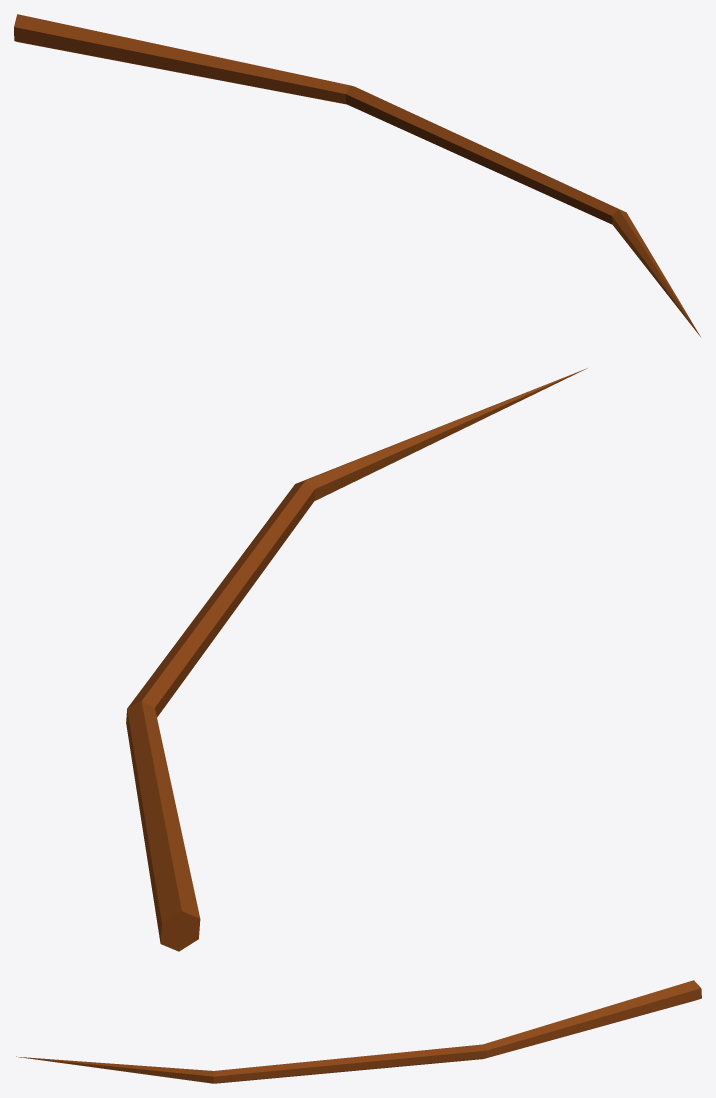
The model's file is Vegetation_Tree_Roots_Vines_Snaking_03.FBX.
3 views of the same model, one above another, from view 1: azimuth 30°, elevation 25°; view 2: azimuth 150°, elevation 25°; view 3: azimuth 270°, elevation 25° (orthographic). The views are drawn at different scales.
Parts seen in each view (by area): view 1: Vegetation_Tree_Roots_Vines_Snaking_03; view 2: Vegetation_Tree_Roots_Vines_Snaking_03; view 3: Vegetation_Tree_Roots_Vines_Snaking_03.
Boxes of the visible parts, x1,y1,x2,y2 form: Vegetation_Tree_Roots_Vines_Snaking_03: [14, 14, 700, 336]; Vegetation_Tree_Roots_Vines_Snaking_03: [126, 368, 587, 951]; Vegetation_Tree_Roots_Vines_Snaking_03: [16, 980, 701, 1083].
Size of the model in its own units: 1750 by 177 by 5498.
